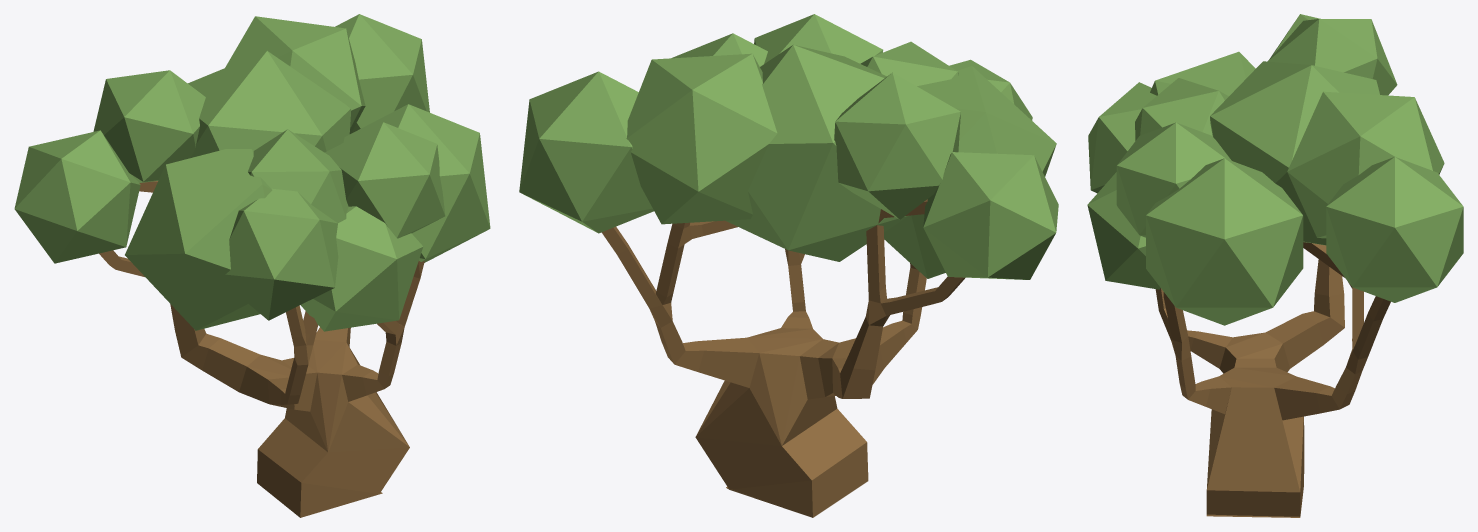
The model's file is Tropic_Tree_Big.fbx.
3 views of the same model, side by side, from view 1: azimuth 30°, elevation 25°; view 2: azimuth 150°, elevation 25°; view 3: azimuth 270°, elevation 25° (orthographic). The views are drawn at different scales.
Parts seen in each view (by area): view 1: Icosphere.042, Cube.012; view 2: Icosphere.042, Cube.012; view 3: Icosphere.042, Cube.012.
Part boxes in pixels (box(x1,y1,x2,y2)): Icosphere.042: box(14, 14, 490, 331); Cube.012: box(99, 181, 424, 517); Icosphere.042: box(519, 14, 1058, 279); Cube.012: box(601, 199, 965, 517); Icosphere.042: box(1087, 14, 1463, 325); Cube.012: box(1155, 242, 1390, 517).
Bounding box in the file's own units: 1501 × 1387 × 1107.
